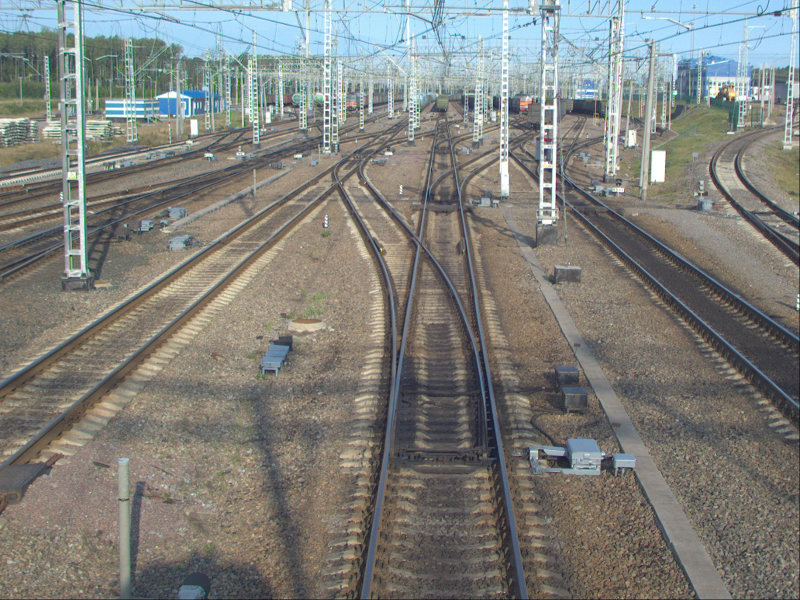left: (425, 183, 467, 200)
right: (386, 372, 503, 453)
